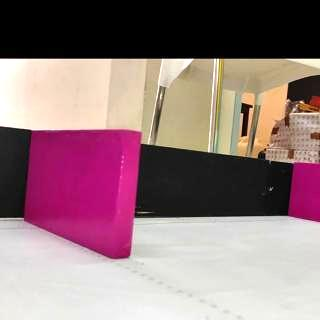xparking: (33, 132, 138, 245), (293, 162, 320, 222)
